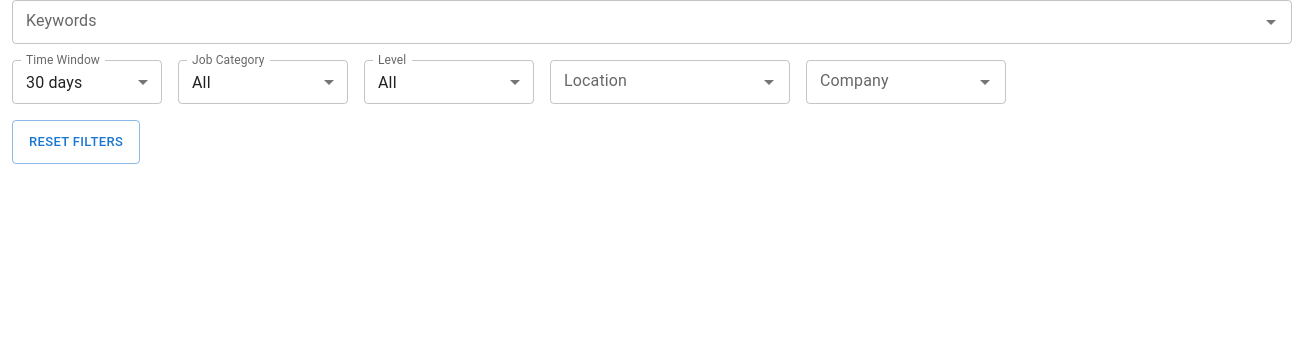
Test: RecentJobsFilters — the subcategory tree › (b) renders the SWE children immediately, with no expander
The image size is (1292, 350).
Click the dropdown named "Job Category" at (201, 82), box [192,72,211,92]
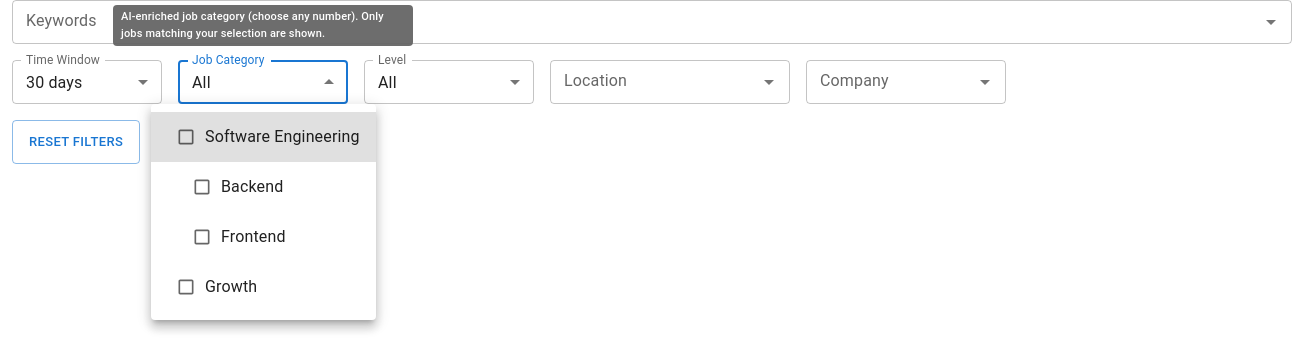
Result: the option "Backend" is shown at [192,177,283,197]
Result: the option "Frontend" is shown at [192,227,286,247]
